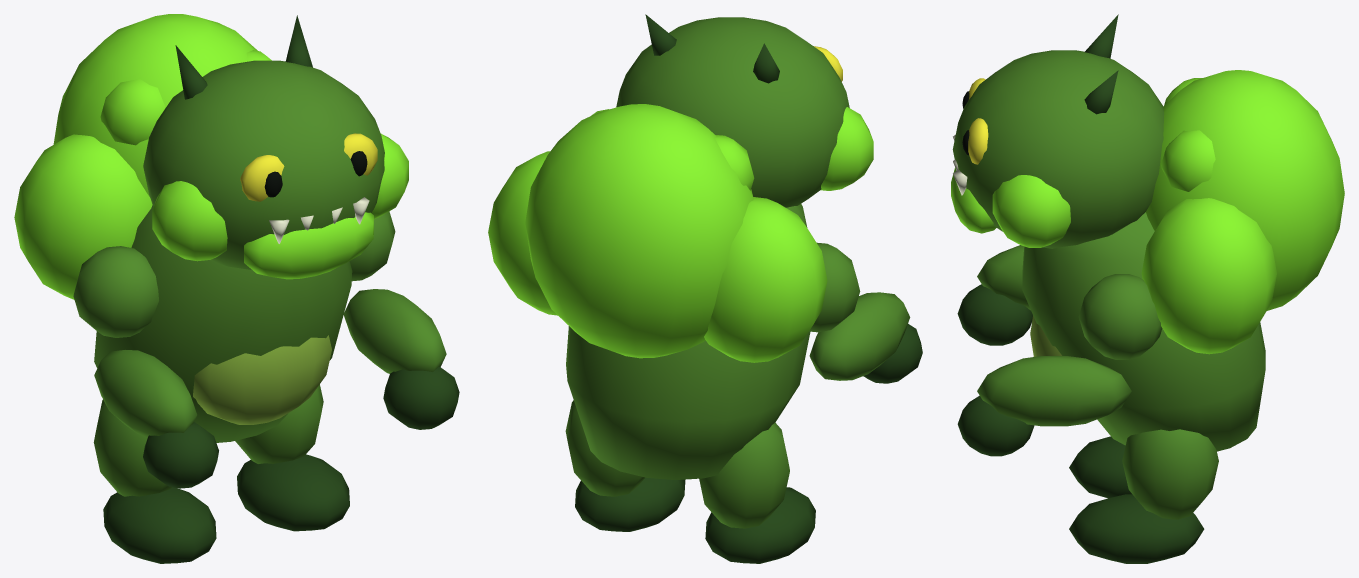
The model's file is spitter.glb.
3 views of the same model, side by side, from view 1: azimuth 30°, elevation 25°; view 2: azimuth 150°, elevation 25°; view 3: azimuth 270°, elevation 25° (orthographic). The views are drawn at different scales.
Visible parts, largest first — view 1: Body, Head, Arms, LegL, LegR; view 2: Body, Head, LegL, Arms, LegR; view 3: Body, Head, Arms, LegR, LegL.
Part boxes in pixels (left/top/right/bottom): Body: left=14, top=14, right=352, bottom=442; Head: left=143, top=15, right=408, bottom=279; Arms: left=73, top=211, right=459, bottom=488; LegL: left=93, top=399, right=216, bottom=563; LegR: left=235, top=384, right=349, bottom=531; Body: left=488, top=104, right=827, bottom=479; Head: left=616, top=14, right=873, bottom=207; LegL: left=699, top=422, right=815, bottom=563; Arms: left=809, top=242, right=922, bottom=383; LegR: left=565, top=400, right=685, bottom=531; Body: left=1022, top=70, right=1344, bottom=451; Head: left=951, top=14, right=1164, bottom=248; Arms: left=957, top=245, right=1162, bottom=456; LegR: left=1069, top=429, right=1218, bottom=563; LegL: left=1069, top=436, right=1131, bottom=498.
Size of the model in its own units: 0.74 by 1.11 by 0.8134.
Materials: 1 (1 with a texture image).
